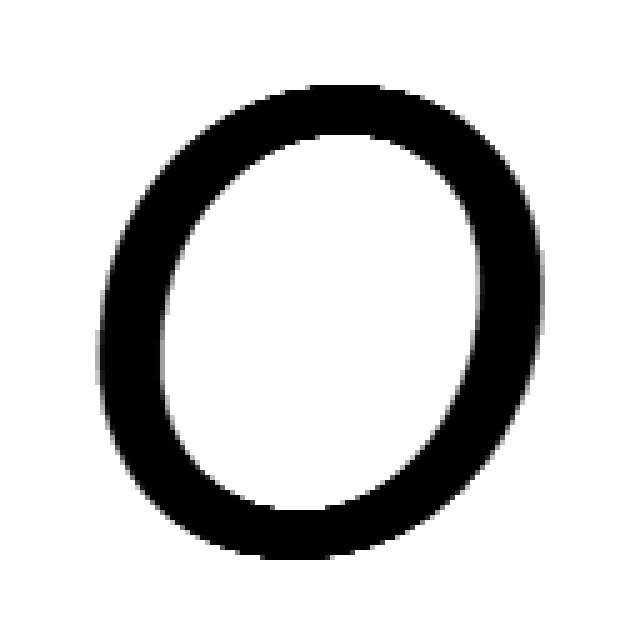O: (95, 85, 550, 565)
